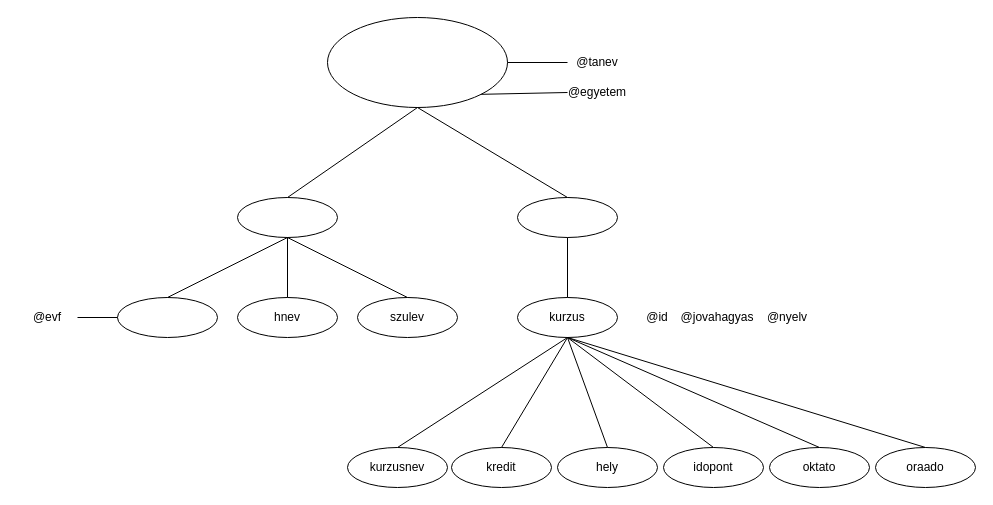
The diagram is 993 pixels wide and 505 high, and some of its shapes have lost their labels. Each missing label, with the box of its shape:
GMPOCB_kurzusfelvetel: (326, 16, 508, 108)
hallgato: (236, 196, 338, 238)
kurzusok: (516, 196, 618, 238)
szak: (116, 296, 218, 338)
